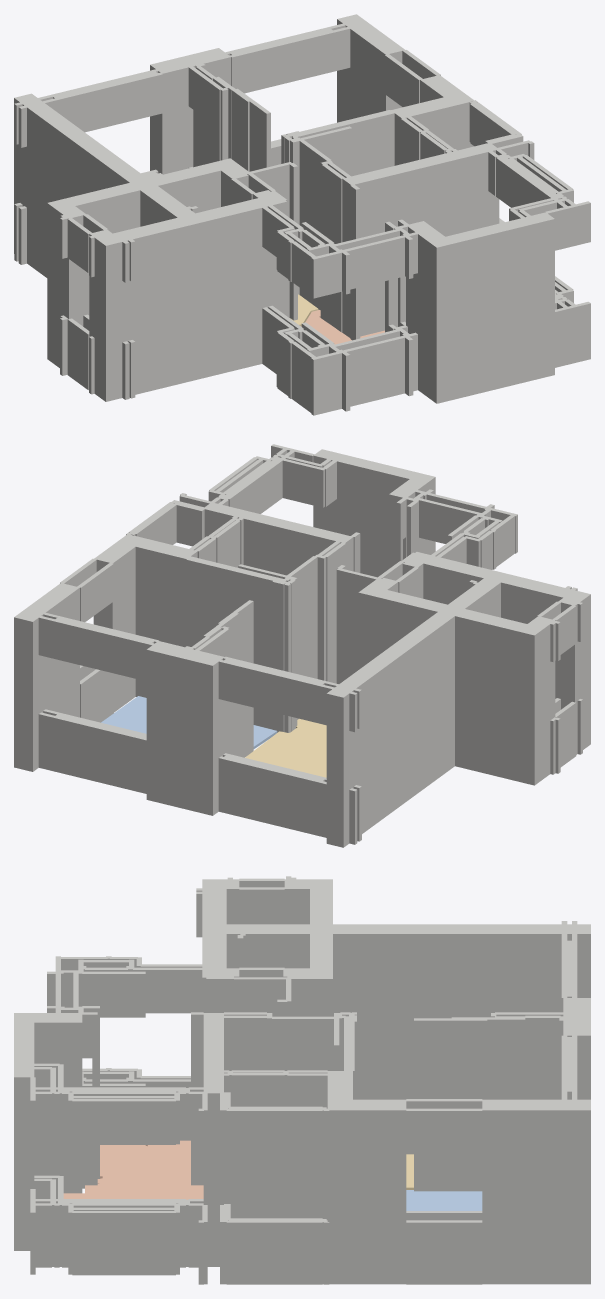
3 views of the same model, one above another, from view 1: azimuth 30°, elevation 25°; view 2: azimuth 150°, elevation 25°; view 3: azimuth 270°, elevation 25° (orthographic). The views are drawn at different scales.
Parts seen in each view (by area): view 1: walls, room:kitchen:6; view 2: walls, room:living:0, room:bedroom:1; view 3: walls, room:kitchen:6, room:bedroom:1.
Part boxes in pixels (left/top/right/bottom): walls: left=14, top=14, right=590, bottom=415; room:kitchen:6: left=301, top=310, right=384, bottom=344; walls: left=14, top=444, right=590, bottom=847; room:living:0: left=245, top=718, right=326, bottom=777; room:bedroom:1: left=101, top=696, right=277, bottom=748; walls: left=14, top=876, right=590, bottom=1284; room:kitchen:6: left=63, top=1140, right=203, bottom=1199; room:bedroom:1: left=406, top=1190, right=482, bottom=1210.
Bounding box in the file's own units: 8.12 × 2.8 × 8.43.
